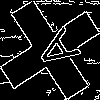A: (25, 25, 82, 79)
